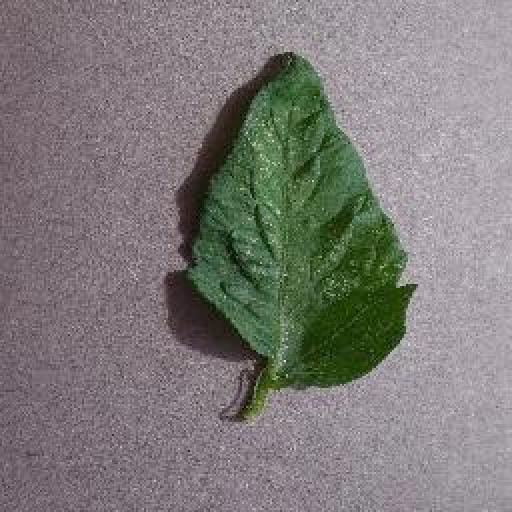disease_tomato: (192, 56, 422, 394)
